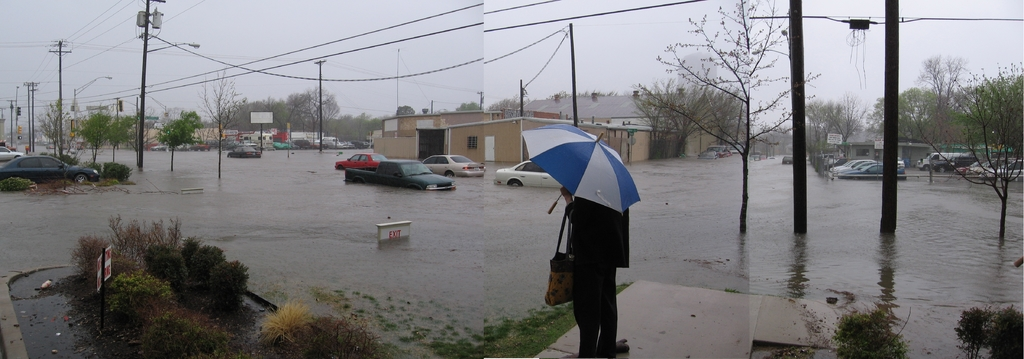Tree: (627, 0, 821, 234), (911, 60, 1024, 239), (795, 72, 1023, 151), (210, 81, 391, 145), (630, 75, 756, 160), (197, 60, 246, 176), (155, 110, 204, 170), (77, 111, 129, 160), (34, 97, 72, 156), (125, 102, 158, 166), (487, 95, 532, 112), (451, 99, 484, 112), (395, 103, 415, 116)
